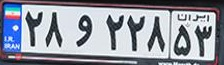character: (42, 8, 67, 50), (71, 12, 97, 49), (23, 6, 44, 50), (146, 13, 167, 56), (103, 11, 125, 52), (126, 11, 146, 54), (192, 22, 214, 58), (172, 23, 194, 58)
